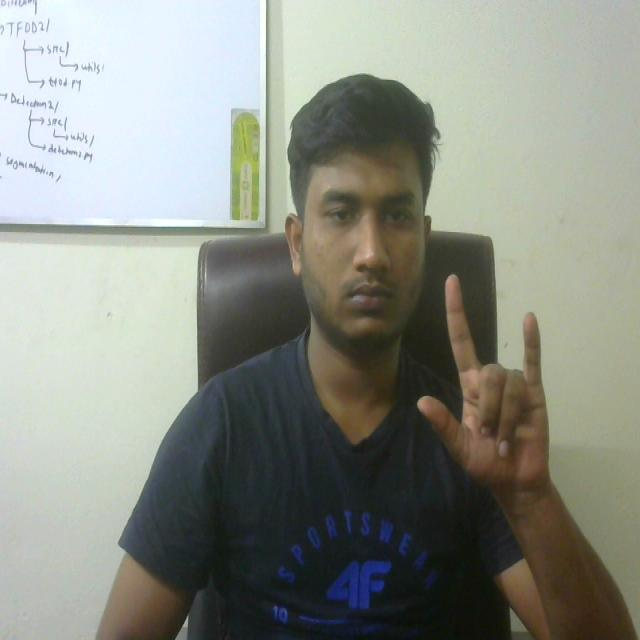I Love You: (411, 263, 565, 517)
